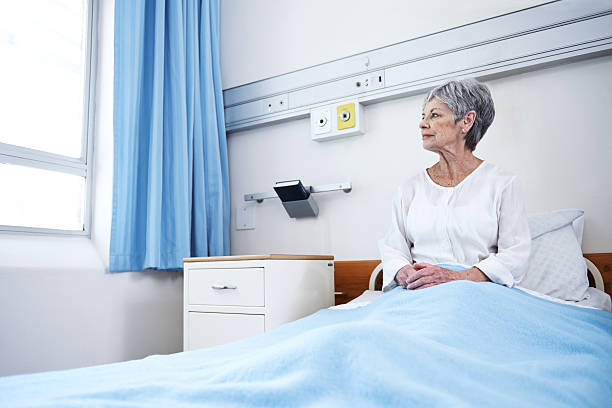bedside_table: (182, 253, 334, 351)
handle: (209, 285, 235, 291)
hospital_bed: (1, 255, 610, 408)
patient: (378, 79, 531, 288)
